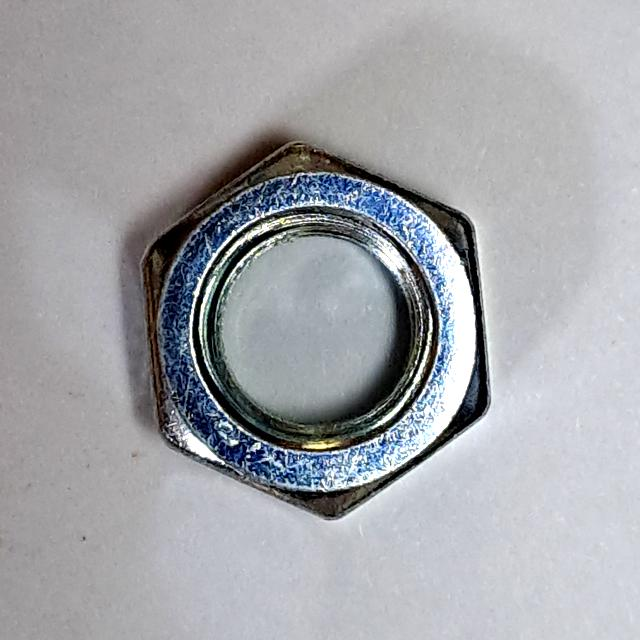Excellent: (126, 128, 508, 536)
